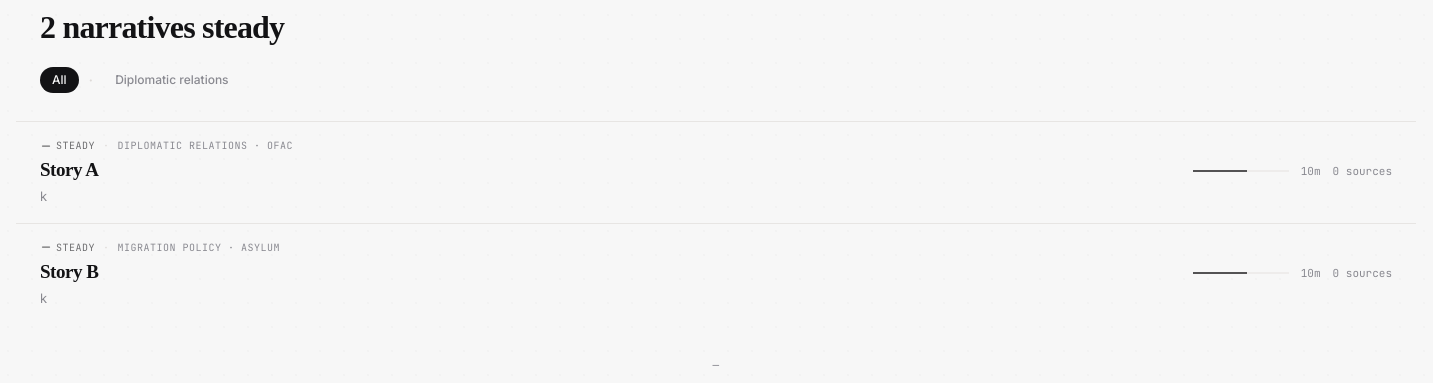
Test: Phase 1.3: pill subset regression sweep › filtering is tags-only and independent of the settings vocabulary (no hidden client mapping)
Expected: the heading "Story A" is shown, [40,159,98,180]
Click the button "Diplomatic relations" at (172, 80), box [103,67,241,93]
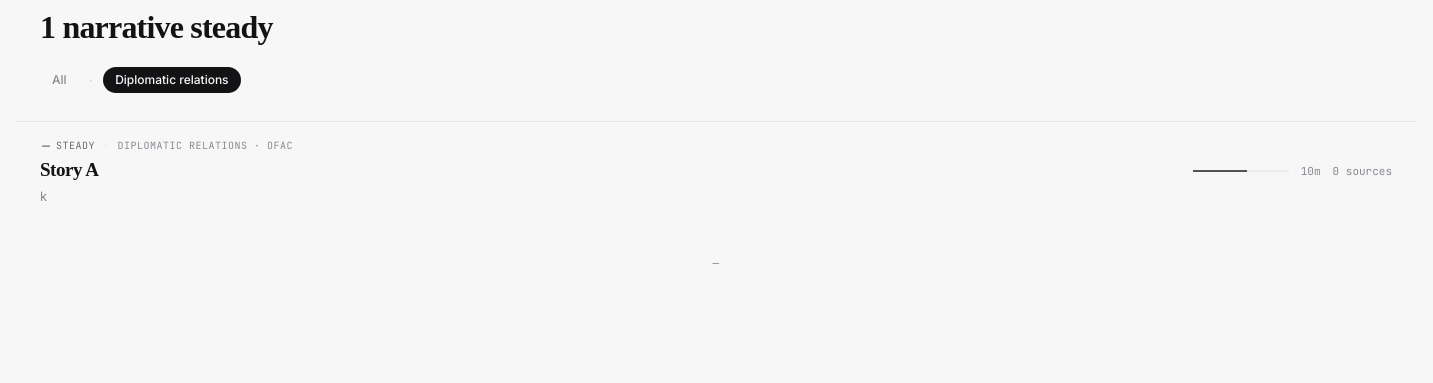
Expected: the heading "Story A" is shown, [40,159,98,180]
Result: the button "Story B" is gone
